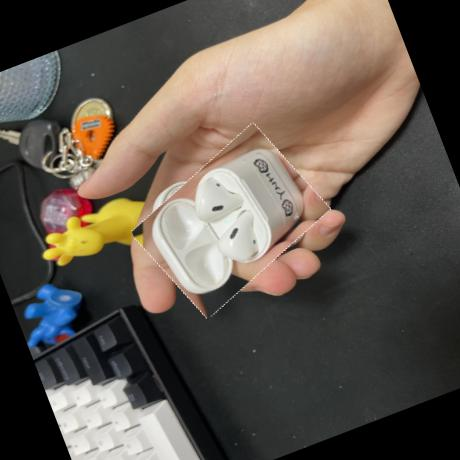airpod2: (122, 122, 341, 320)
